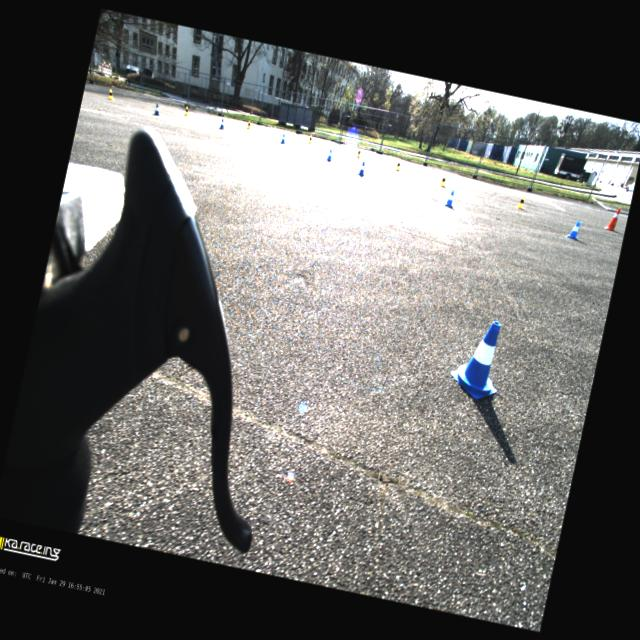blue_cone: (446, 314, 510, 404), (564, 219, 582, 240), (444, 189, 456, 207), (357, 160, 366, 176), (153, 102, 162, 116), (326, 148, 332, 160), (218, 119, 224, 129), (280, 134, 286, 144)
large_orange_cone: (602, 206, 620, 232)
yellow_cone: (514, 193, 526, 210), (394, 159, 402, 171), (106, 88, 114, 100), (440, 174, 446, 187), (354, 147, 361, 157), (183, 106, 189, 116), (307, 135, 312, 144), (246, 120, 250, 129)
